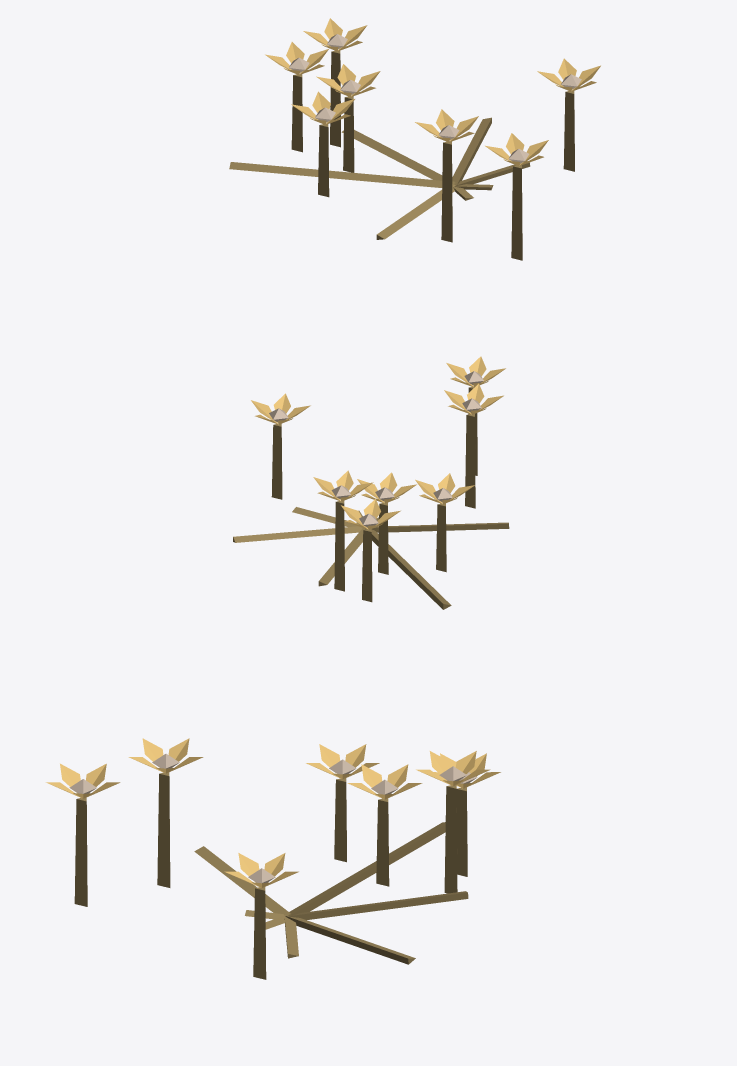
Rendered from shui.pingpeng@flowering__autumn.glb.
3 views of the same model, one above another, from view 1: azimuth 30°, elevation 25°; view 2: azimuth 150°, elevation 25°; view 3: azimuth 270°, elevation 25° (orthographic). The views are drawn at different scales.
Visible parts, largest first — view 1: shui.pingpeng@flowering__autumn; view 2: shui.pingpeng@flowering__autumn; view 3: shui.pingpeng@flowering__autumn.
Boxes of the visible parts, bbox=[...] form: shui.pingpeng@flowering__autumn: bbox=[229, 18, 600, 260]; shui.pingpeng@flowering__autumn: bbox=[233, 356, 509, 609]; shui.pingpeng@flowering__autumn: bbox=[46, 738, 500, 979].
Size of the model in its own units: 1.28 by 0.2458 by 1.15.
